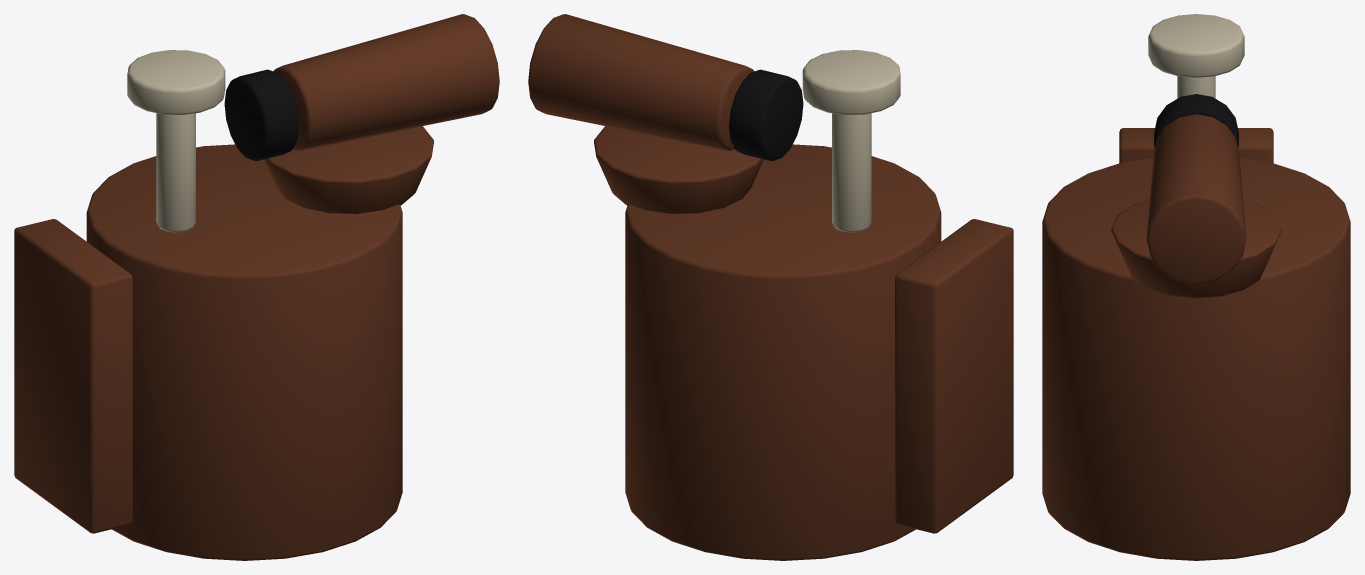
The model's file is SM_PL64_Blowtorch.glb.
3 views of the same model, side by side, from view 1: azimuth 30°, elevation 25°; view 2: azimuth 150°, elevation 25°; view 3: azimuth 270°, elevation 25° (orthographic). The views are drawn at different scales.
Parts seen in each view (by area): view 1: SM_PL64_Blowtorch, Pump_Rod_Knob, Valve_Wheel_Bakelite; view 2: SM_PL64_Blowtorch, Pump_Rod_Knob, Valve_Wheel_Bakelite; view 3: SM_PL64_Blowtorch, Pump_Rod_Knob, Valve_Wheel_Bakelite.
Part boxes in pixels (x1,y1,x2,y2): SM_PL64_Blowtorch: (14, 14, 499, 560); Pump_Rod_Knob: (127, 50, 225, 232); Valve_Wheel_Bakelite: (224, 69, 298, 161); SM_PL64_Blowtorch: (528, 14, 1013, 560); Pump_Rod_Knob: (802, 50, 900, 232); Valve_Wheel_Bakelite: (729, 69, 803, 161); SM_PL64_Blowtorch: (1042, 114, 1350, 560); Pump_Rod_Knob: (1148, 14, 1244, 98); Valve_Wheel_Bakelite: (1154, 94, 1238, 148).
Bounding box in the file's own units: 0.2475 × 0.2475 × 0.16.
